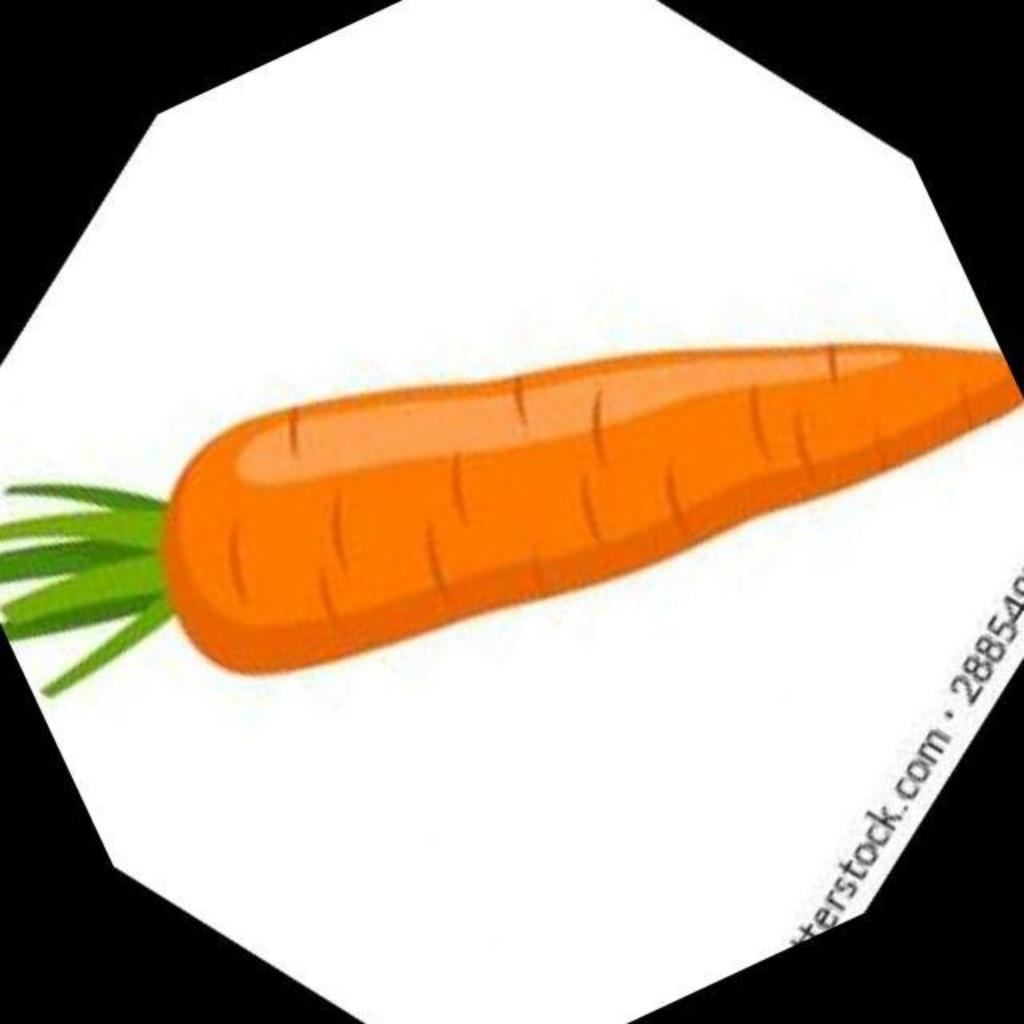carrot: (0, 346, 1018, 696)
